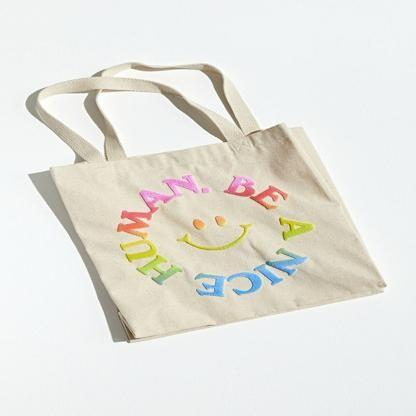not trash: (25, 60, 386, 343)
